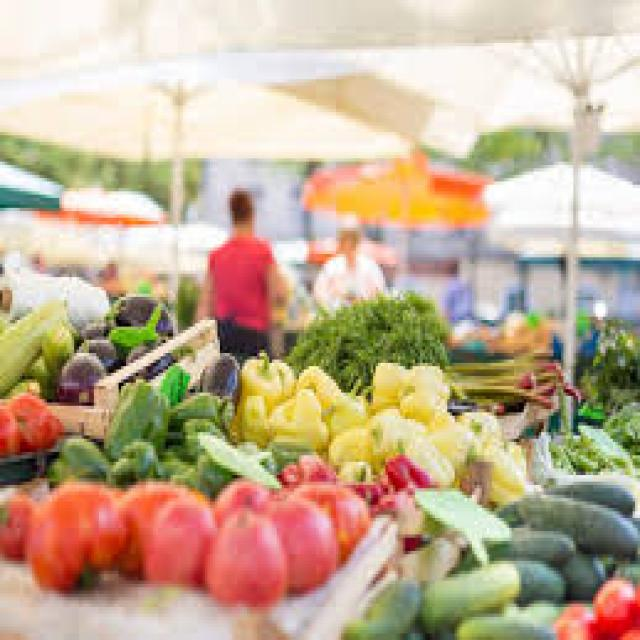organic waste: (286, 284, 444, 396), (22, 475, 124, 587), (494, 492, 638, 558), (114, 478, 205, 578), (203, 508, 284, 604), (420, 558, 517, 634), (262, 495, 338, 587), (415, 482, 507, 558), (141, 491, 215, 584), (440, 554, 561, 607), (576, 314, 638, 412), (99, 372, 168, 458), (0, 297, 62, 389), (450, 524, 571, 568), (338, 574, 418, 637), (546, 412, 633, 466), (309, 475, 368, 554), (541, 475, 633, 518), (198, 426, 274, 478), (450, 607, 556, 637), (106, 290, 176, 334), (452, 376, 554, 406), (44, 432, 99, 485), (165, 386, 228, 432), (101, 435, 158, 485), (590, 571, 638, 630), (267, 396, 324, 445), (52, 346, 101, 399), (235, 346, 274, 406), (363, 402, 405, 456), (212, 472, 270, 511), (175, 409, 220, 459), (363, 356, 405, 406), (558, 551, 603, 597), (548, 594, 596, 637), (297, 360, 336, 412), (598, 396, 638, 445), (484, 449, 526, 495), (111, 303, 163, 340), (0, 495, 32, 554), (462, 356, 554, 376), (393, 449, 432, 495), (452, 350, 541, 370), (198, 347, 237, 392), (119, 340, 168, 373), (264, 432, 312, 465), (391, 482, 415, 548), (406, 359, 448, 396), (398, 386, 440, 422), (326, 419, 363, 459), (415, 445, 452, 485), (457, 458, 489, 504), (457, 406, 492, 448), (324, 389, 358, 432), (146, 439, 190, 472), (72, 330, 108, 369), (18, 409, 60, 442), (232, 390, 262, 436), (40, 316, 72, 359), (27, 353, 59, 393), (447, 419, 467, 475), (289, 383, 319, 419), (398, 416, 425, 455), (381, 455, 405, 498), (178, 274, 200, 320), (430, 409, 455, 449), (272, 356, 296, 396), (8, 373, 40, 402), (296, 445, 324, 475), (610, 554, 638, 584), (341, 482, 376, 504), (0, 416, 20, 452), (532, 372, 564, 392), (10, 392, 39, 412), (276, 455, 296, 482), (0, 396, 15, 425), (509, 369, 534, 386), (76, 317, 108, 330), (616, 620, 638, 637), (558, 376, 574, 399), (373, 485, 388, 508), (0, 303, 7, 323)
